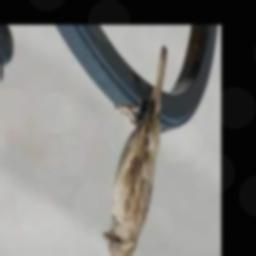Sparrow: (103, 45, 167, 256)
